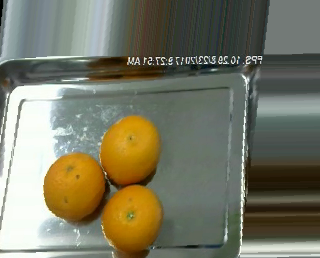Orange: (43, 151, 106, 220), (100, 114, 161, 185), (101, 184, 162, 254)
